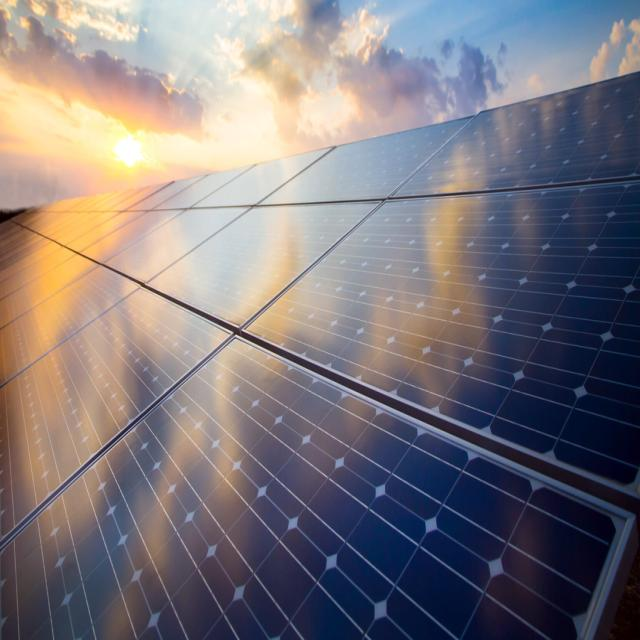clean-solar-panel: (0, 76, 639, 638)
